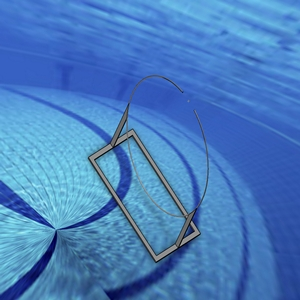circle: (88, 71, 212, 265)
